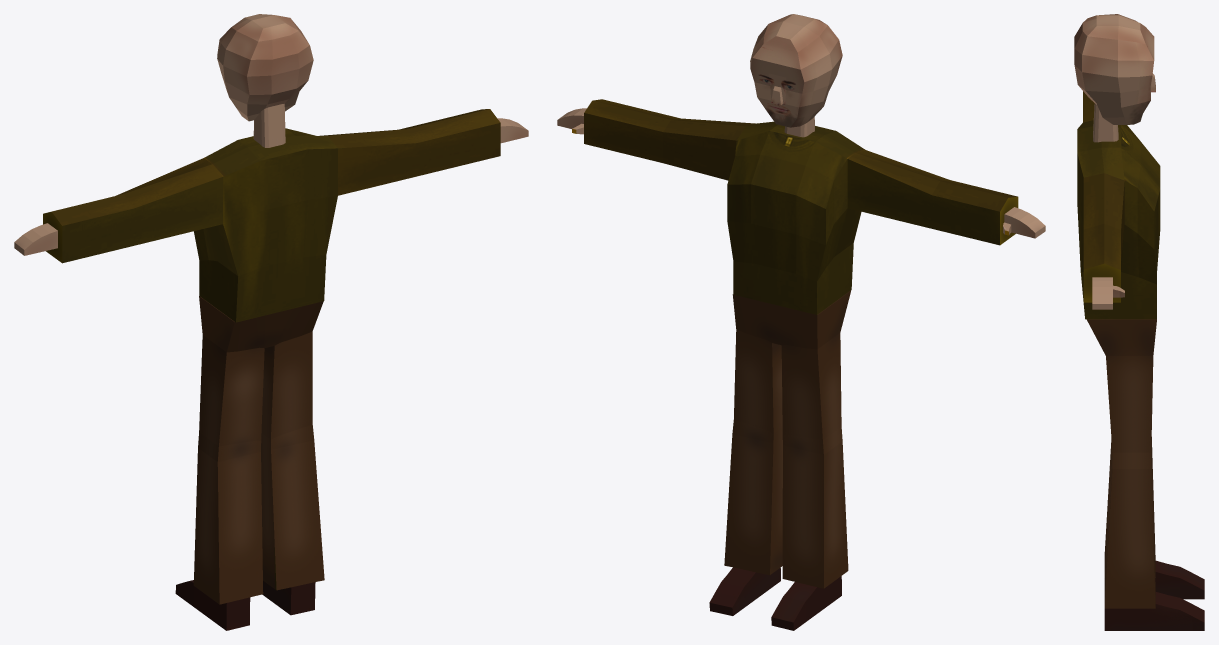
File: GGJNormalNPCVar.fbx
3 renders of one model, left to right at view 1: azimuth 30°, elevation 25°; view 2: azimuth 150°, elevation 25°; view 3: azimuth 270°, elevation 25°, orthographic. The views are drawn at different scales.
Visible parts, largest first — view 1: MaleNPC; view 2: MaleNPC; view 3: MaleNPC.
Part boxes in pixels (x1,y1,x2,y2): MaleNPC: (14,14,528,630); MaleNPC: (557,14,1045,630); MaleNPC: (1074,14,1204,630).
Size of the model in its own units: 1051 by 1191 by 238.
Materials: 1 (1 with a texture image).
